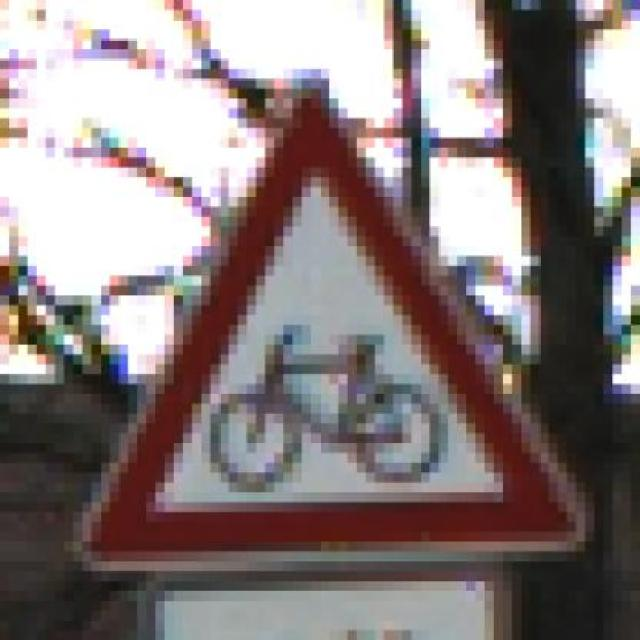CYCLE ROUTE AHEAD WARNING: (64, 79, 585, 562)
